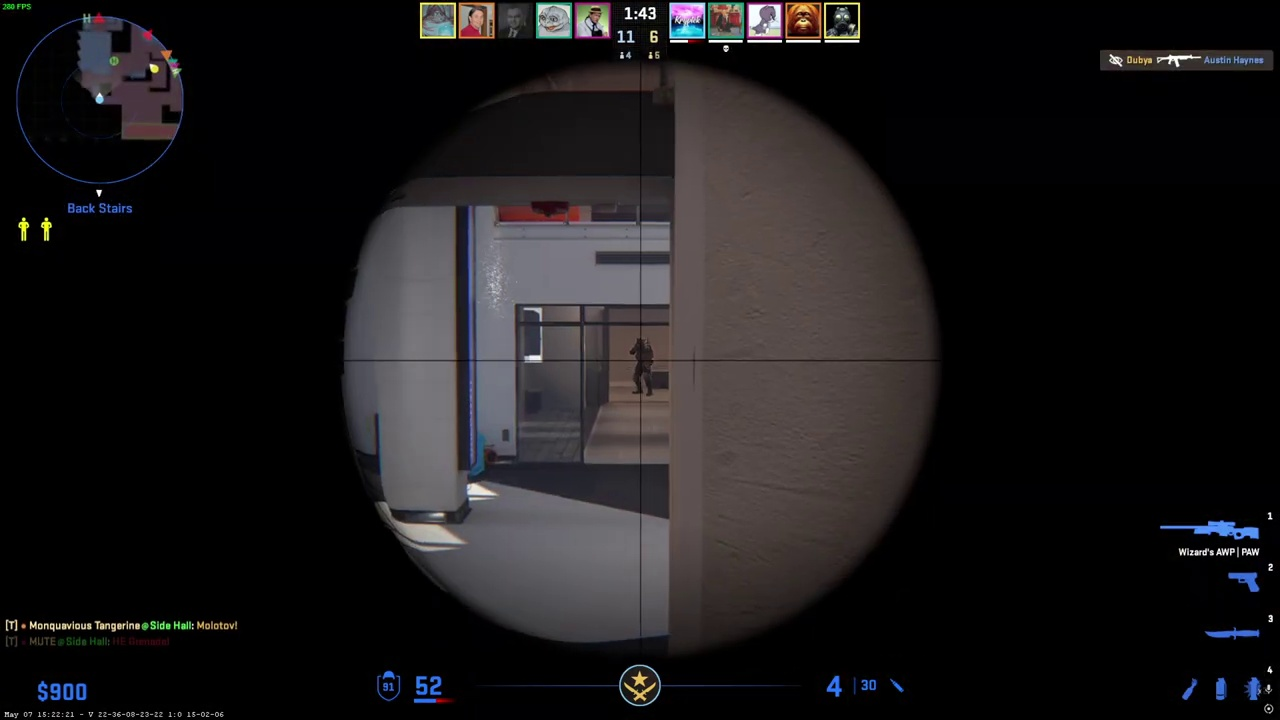CT: (631, 336, 654, 397)
